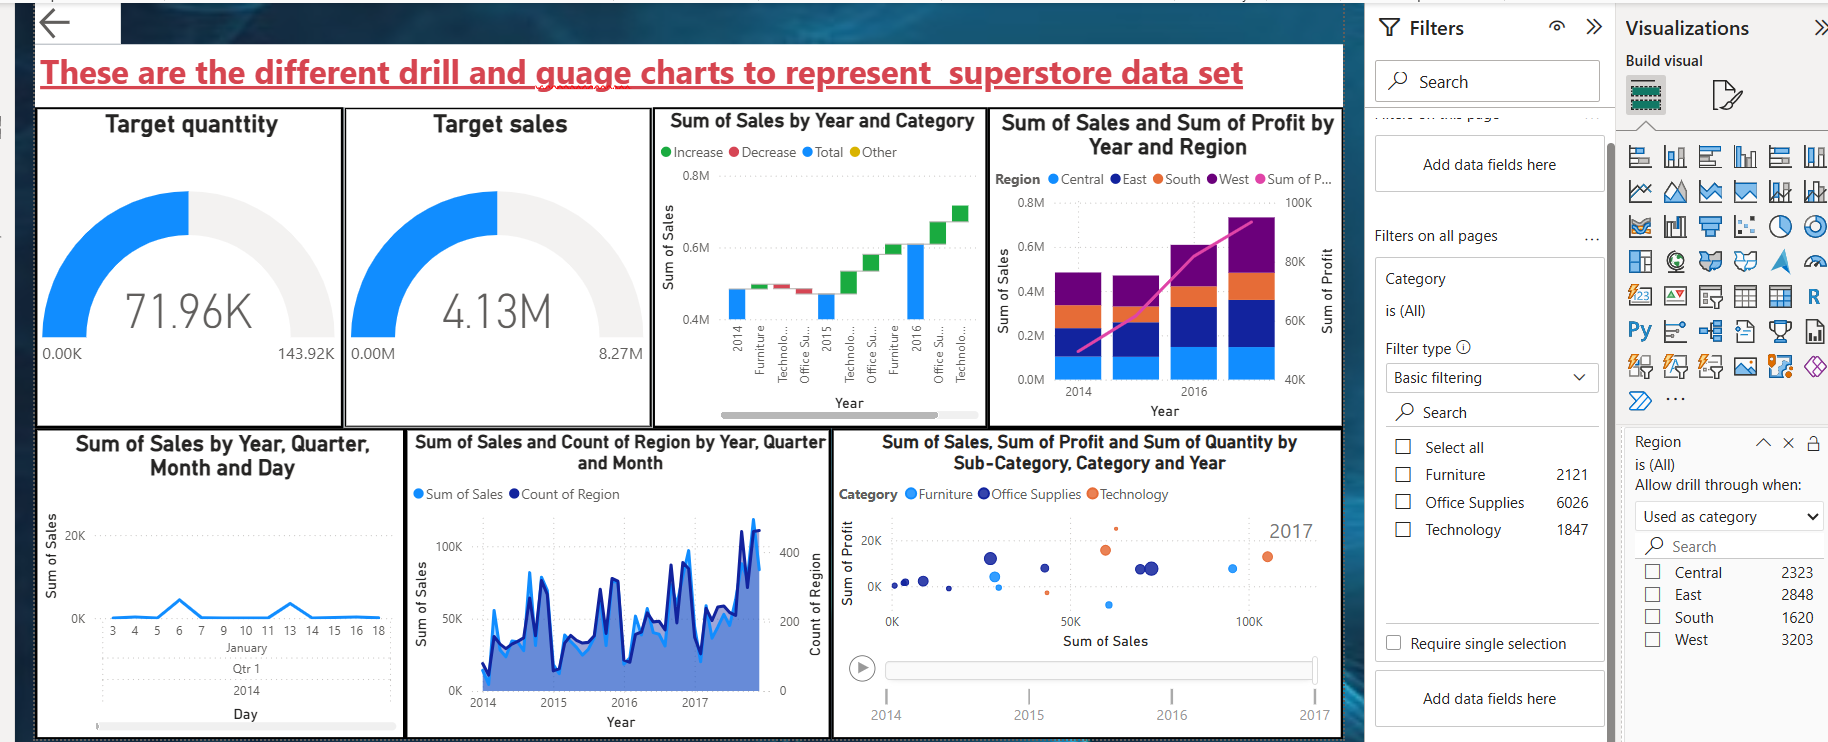

This screenshot's page, from the dashboard's own definition file:
{"tool":"powerbi","page":{"name":"Page 2","canvas":[1280,720],"ordinal":1},"visuals":[{"type":"lineChart","fields":{"Category":["Orders.Order Date.Variation.Date Hierarchy.Year","Orders.Order Date.Variation.Date Hierarchy.Quarter","Orders.Order Date.Variation.Date Hierarchy.Month","Orders.Order Date.Variation.Date Hierarchy.Day"],"Y":["Sum(Orders.Sales)"]},"box":[0,415.8,362.3,304.6],"z":0},{"type":"areaChart","fields":{"Category":["Orders.Order Date.Variation.Date Hierarchy.Year","Orders.Order Date.Variation.Date Hierarchy.Quarter","Orders.Order Date.Variation.Date Hierarchy.Month","Orders.Order Date.Variation.Date Hierarchy.Day"],"Y":["Sum(Orders.Sales)"],"Y2":["CountNonNull(Orders.Region)"]},"box":[362.3,415.8,417.2,304.6],"z":1},{"type":"lineStackedColumnComboChart","fields":{"Category":["Orders.Order Date.Variation.Date Hierarchy.Year","Orders.Order Date.Variation.Date Hierarchy.Quarter","Orders.Order Date.Variation.Date Hierarchy.Month","Orders.Order Date.Variation.Date Hierarchy.Day"],"Y":["Sum(Orders.Sales)"],"Y2":["Sum(Orders.Profit)"],"Series":["Orders.Region"]},"box":[931.7,101.5,348.5,314.2],"z":2},{"type":"scatterChart","fields":{"Category":["Orders.Sub-Category"],"X":["Sum(Orders.Sales)"],"Y":["Sum(Orders.Profit)"],"Series":["Orders.Category"],"Size":["Sum(Orders.Quantity)"],"Play":["Orders.Order Date.Variation.Date Hierarchy.Year"]},"box":[779.4,415.8,500.9,304.6],"z":3},{"type":"waterfallChart","fields":{"Category":["Orders.Order Date.Variation.Date Hierarchy.Year"],"Y":["Sum(Orders.Sales)"],"Breakdown":["Orders.Category"]},"box":[603.8,101.5,328,314.2],"z":4},{"type":"gauge","fields":{"Y":["Orders.Target sales"]},"box":[301.9,101.5,301.9,314.2],"z":5},{"type":"gauge","fields":{"Y":["Orders.Target quanttity"]},"box":[0,101.5,301.9,314.2],"z":6},{"type":"textbox","box":[0,39.8,1280.3,61.7],"z":8},{"type":"actionButton","box":[0,0,83.7,39.8],"z":9}]}

Visuals, with their boxes in screenshot pixels (x1, y1, x2, y2):
lineChart - Orders.Order Date.Variation.Date Hierarchy.Year x Orders.Order Date.Variation.Date Hierarchy.Quarter: rect(33, 423, 402, 733)
areaChart - Orders.Order Date.Variation.Date Hierarchy.Year x Orders.Order Date.Variation.Date Hierarchy.Quarter: rect(402, 423, 826, 733)
lineStackedColumnComboChart - Orders.Order Date.Variation.Date Hierarchy.Year x Orders.Order Date.Variation.Date Hierarchy.Quarter: rect(981, 103, 1335, 423)
scatterChart - Orders.Sub-Category x Sum(Orders.Sales): rect(826, 423, 1336, 733)
waterfallChart - Orders.Order Date.Variation.Date Hierarchy.Year x Sum(Orders.Sales): rect(647, 103, 981, 423)
gauge - Orders.Target sales: rect(340, 103, 647, 423)
gauge - Orders.Target quanttity: rect(33, 103, 340, 423)
textbox: rect(33, 40, 1336, 103)
actionButton: rect(33, 0, 118, 40)
